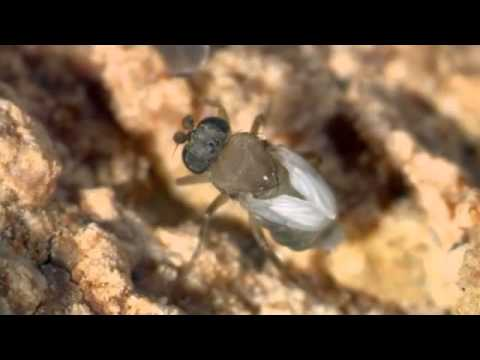phorid fly: (152, 73, 366, 282)
